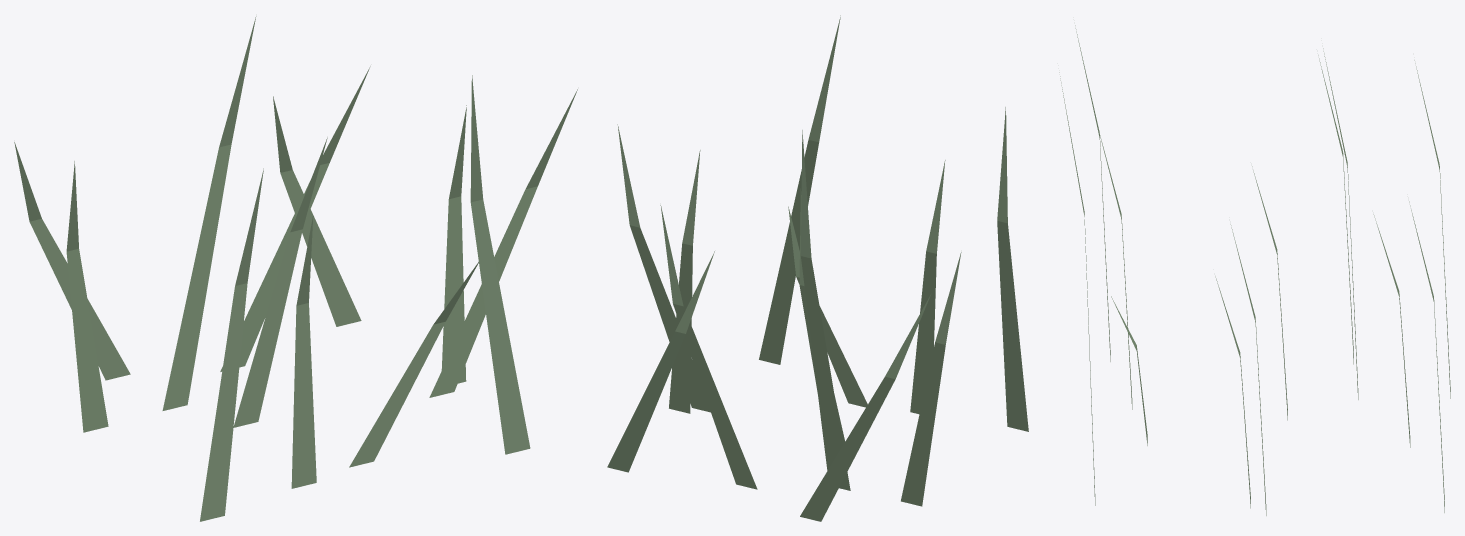
Rendered from tall_grass_variant_02.glb.
The picture shows the model from 3 angles, left to right: view 1: azimuth 30°, elevation 25°; view 2: azimuth 150°, elevation 25°; view 3: azimuth 270°, elevation 25°; orthographic projection. The views are drawn at different scales.
Visible parts, largest first — view 1: static_leaf_sage; view 2: static_leaf_sage; view 3: static_leaf_sage.
Boxes of the visible parts, bbox=[...] form: static_leaf_sage: bbox=[14, 16, 577, 521]; static_leaf_sage: bbox=[607, 15, 1028, 521]; static_leaf_sage: bbox=[1059, 25, 1450, 515].
Bounding box in the file's own units: 1 × 0.8396 × 0.7243.
